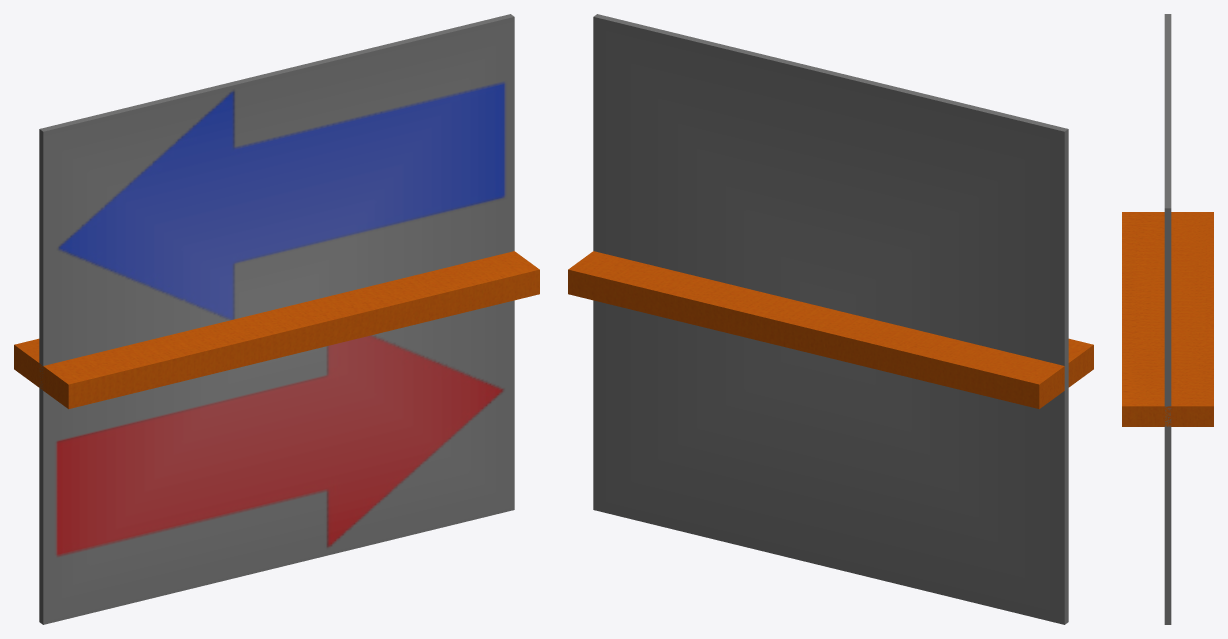
File: GunSwapPlane.fbx
3 views of the same model, side by side, from view 1: azimuth 30°, elevation 25°; view 2: azimuth 150°, elevation 25°; view 3: azimuth 270°, elevation 25° (orthographic). The views are drawn at different scales.
Visible parts, largest first — view 1: gunSwapTarget; view 2: gunSwapTarget; view 3: gunSwapTarget.
Boxes of the visible parts, left/top/right/bottom form: gunSwapTarget: left=14, top=14, right=539, bottom=624; gunSwapTarget: left=568, top=14, right=1093, bottom=624; gunSwapTarget: left=1122, top=14, right=1213, bottom=624.
Bounding box in the file's own units: 1000 × 1000 × 200.
